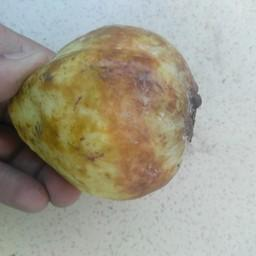Bad_guava: (6, 20, 200, 201)
